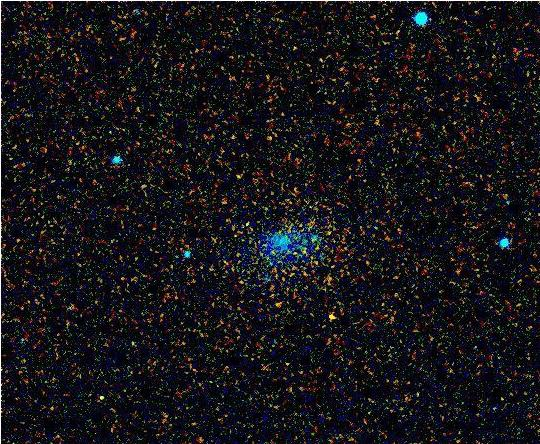star: (315, 300, 345, 330)
